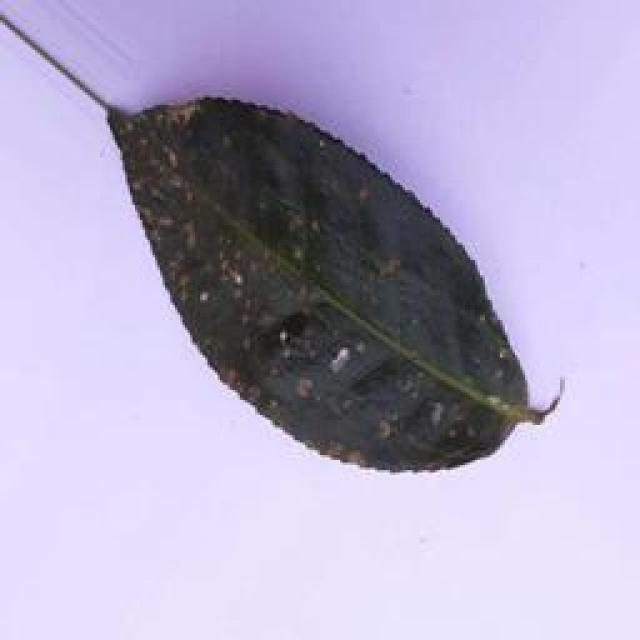Algal Leaf Spot: (105, 102, 543, 472)
